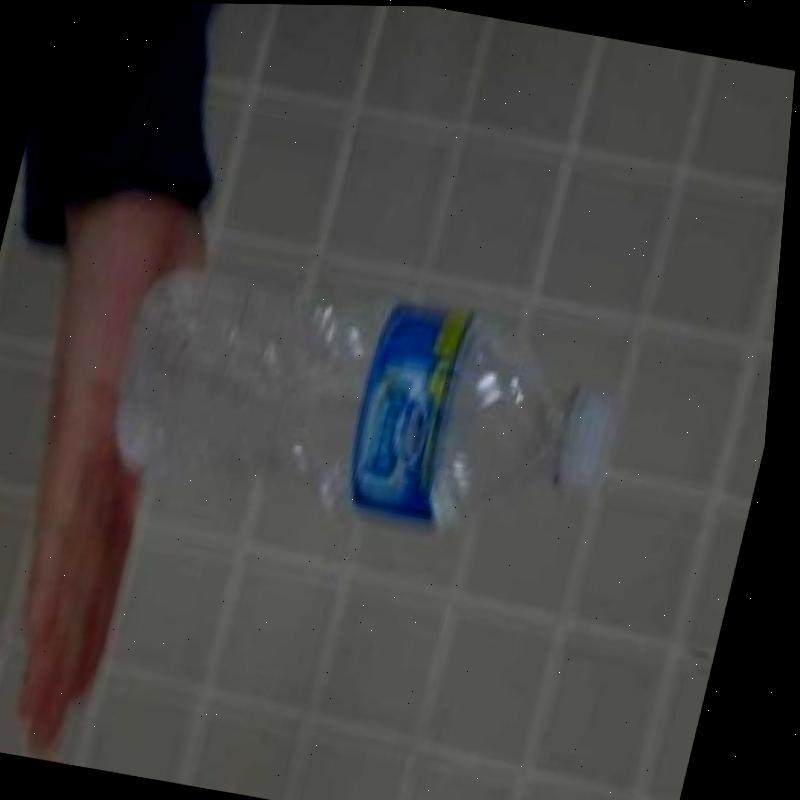botella: (101, 252, 653, 559)
